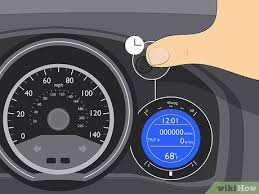Digital_Meter: (136, 104, 208, 178)
